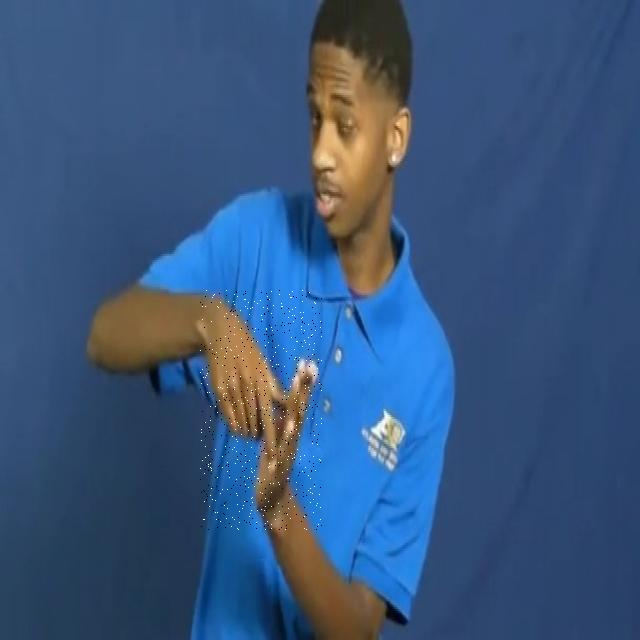biscuit: (200, 290, 322, 530)
